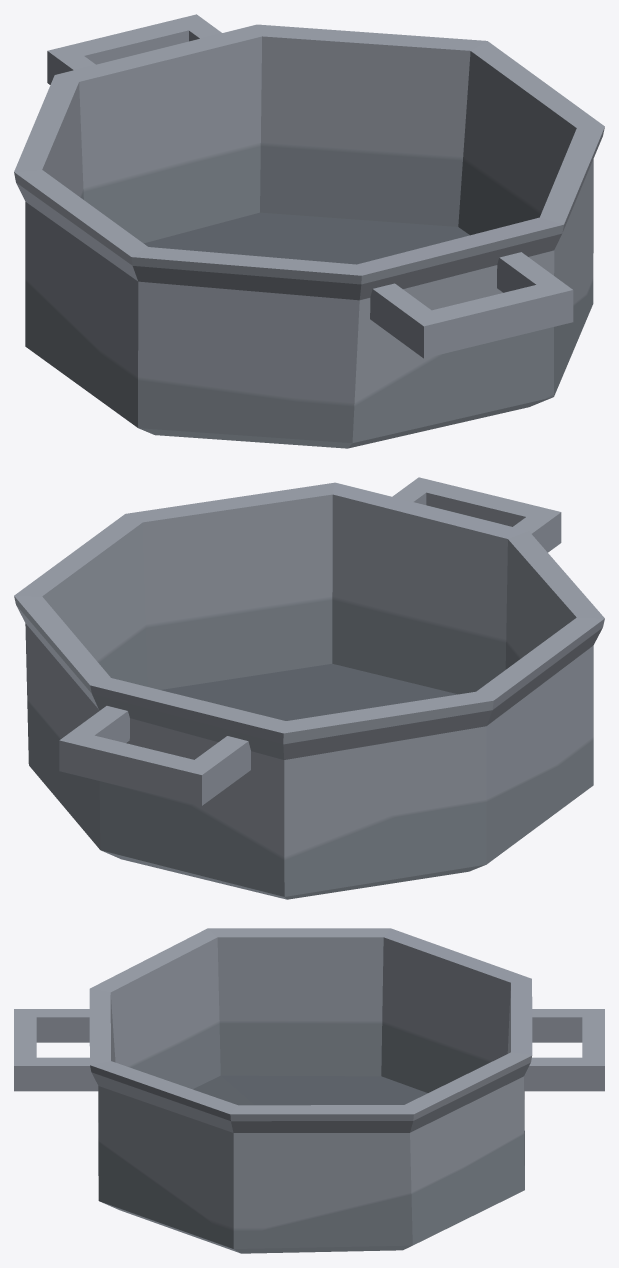
File: SM_Prop_Pot_02.glb
The picture shows the model from 3 angles, top to bottom: view 1: azimuth 30°, elevation 25°; view 2: azimuth 150°, elevation 25°; view 3: azimuth 270°, elevation 25°; orthographic projection. The views are drawn at different scales.
Parts seen in each view (by area): view 1: SM_Prop_Pot_02; view 2: SM_Prop_Pot_02; view 3: SM_Prop_Pot_02.
Part boxes in pixels (x1,y1,x2,y2): SM_Prop_Pot_02: (14, 14, 604, 448); SM_Prop_Pot_02: (14, 477, 604, 899); SM_Prop_Pot_02: (14, 928, 604, 1253).
Bounding box in the file's own units: 0.5239 × 0.1988 × 0.6994.
1 material, 1 textured.
